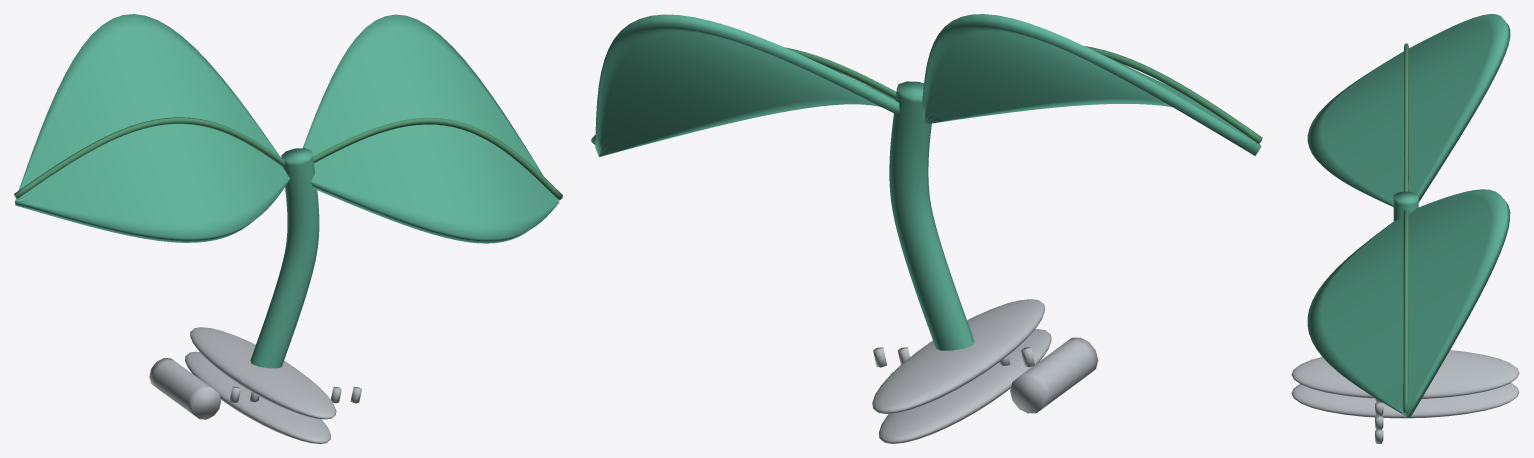
Rendered from Masculine-buzz-pashmina251-sprout.glb.
The picture shows the model from 3 angles, left to right: view 1: azimuth 30°, elevation 25°; view 2: azimuth 150°, elevation 25°; view 3: azimuth 270°, elevation 25°; orthographic projection. The views are drawn at different scales.
Parts seen in each view (by area): view 1: 226 extra / Accessory / mint226, 226 extra / Sprout / clip silver235, 226 extra / Sprout / leaf vein235; view 2: 226 extra / Accessory / mint226, 226 extra / Sprout / clip silver235, 226 extra / Sprout / leaf vein235; view 3: 226 extra / Accessory / mint226, 226 extra / Sprout / clip silver235, 226 extra / Sprout / leaf vein235.
Part boxes in pixels (x1,y1,x2,y2): 226 extra / Accessory / mint226: (15, 14, 559, 368); 226 extra / Sprout / clip silver235: (149, 327, 361, 443); 226 extra / Sprout / leaf vein235: (14, 117, 562, 200); 226 extra / Accessory / mint226: (595, 14, 1261, 350); 226 extra / Sprout / clip silver235: (872, 299, 1098, 443); 226 extra / Sprout / leaf vein235: (591, 46, 1262, 144); 226 extra / Accessory / mint226: (1307, 14, 1510, 417); 226 extra / Sprout / clip silver235: (1291, 350, 1519, 443); 226 extra / Sprout / leaf vein235: (1403, 43, 1408, 413).
Bounding box in the file's own units: 0.2645 × 0.1739 × 0.104.
